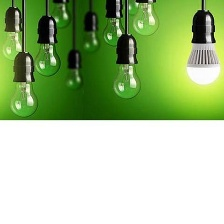light_bulb: (0, 66, 44, 121), (183, 36, 224, 90), (110, 56, 145, 104), (29, 30, 61, 79), (128, 1, 162, 39), (0, 17, 28, 61), (100, 15, 131, 51), (58, 56, 87, 93), (77, 19, 101, 55), (45, 1, 74, 30)
